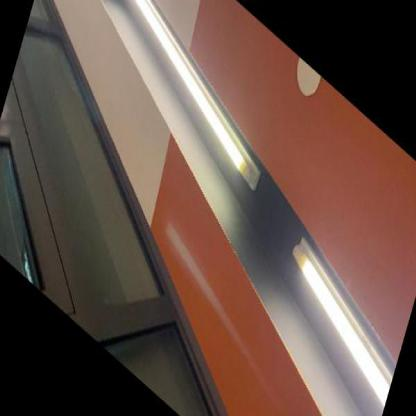light_on: (82, 0, 288, 214), (258, 206, 410, 414)
